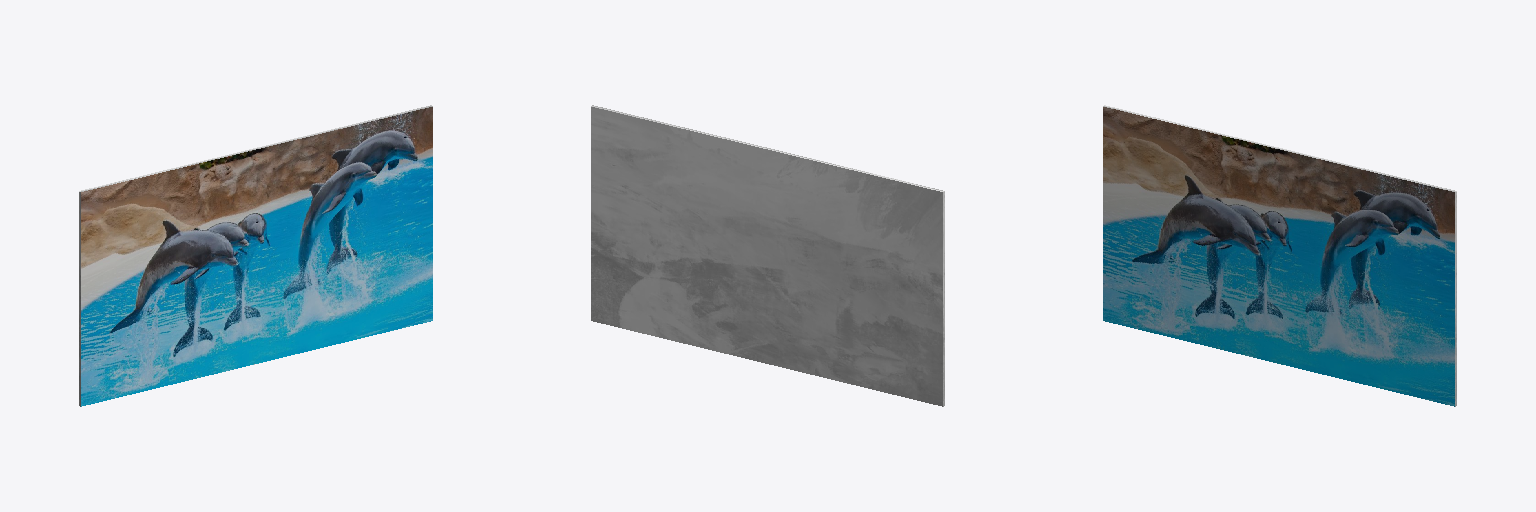
3 renders of one model, left to right at view 1: azimuth 30°, elevation 25°; view 2: azimuth 150°, elevation 25°; view 3: azimuth 330°, elevation 25°, orthographic.
Parts seen in each view (by area): view 1: Box001; view 2: Box001; view 3: Box001.
Part boxes in pixels (left/top/right/bottom): Box001: left=79, top=105, right=432, bottom=406; Box001: left=591, top=105, right=944, bottom=406; Box001: left=1103, top=105, right=1456, bottom=406.
Size of the model in its own units: 28.52 by 16.58 by 0.2514.
2 materials, 2 textured.